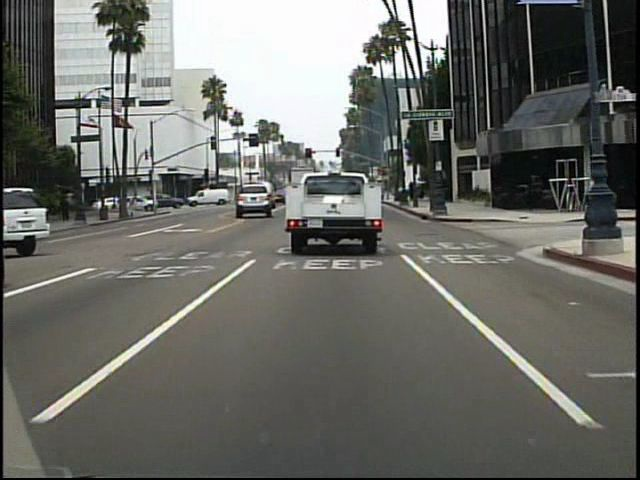person: (591, 168, 607, 218), (586, 172, 598, 213), (143, 194, 152, 213)
